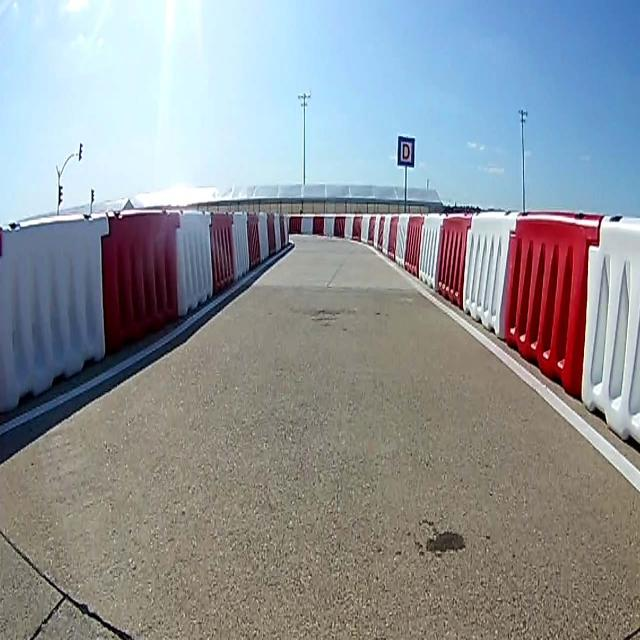durak: (398, 134, 414, 169)
